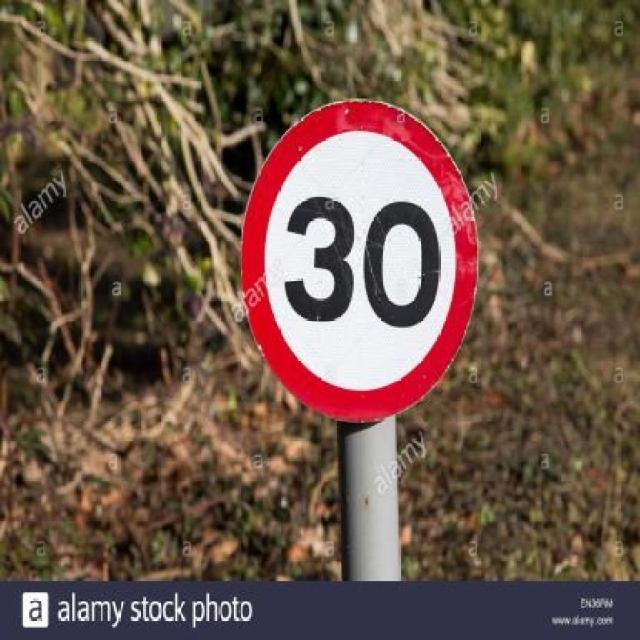forb_speed_over_30: (245, 105, 479, 428)
